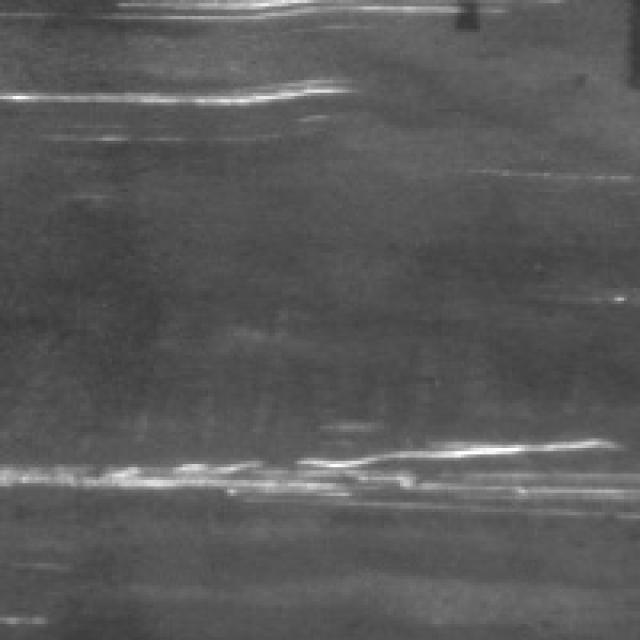scratches: (0, 422, 634, 532), (0, 67, 355, 115)
